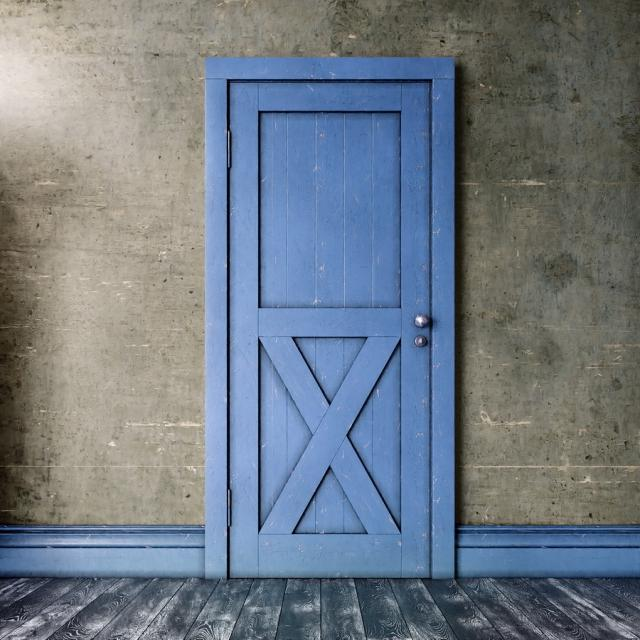close: (225, 78, 437, 579)
